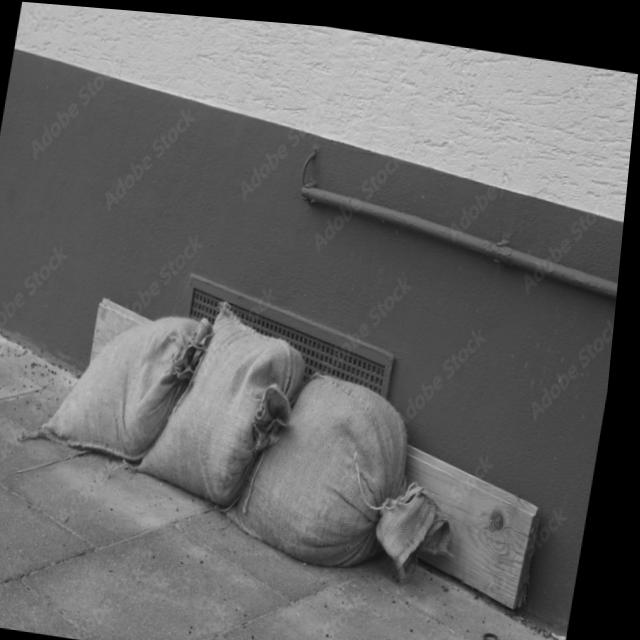sack: (226, 354, 484, 582), (138, 285, 319, 512), (36, 292, 221, 465)
